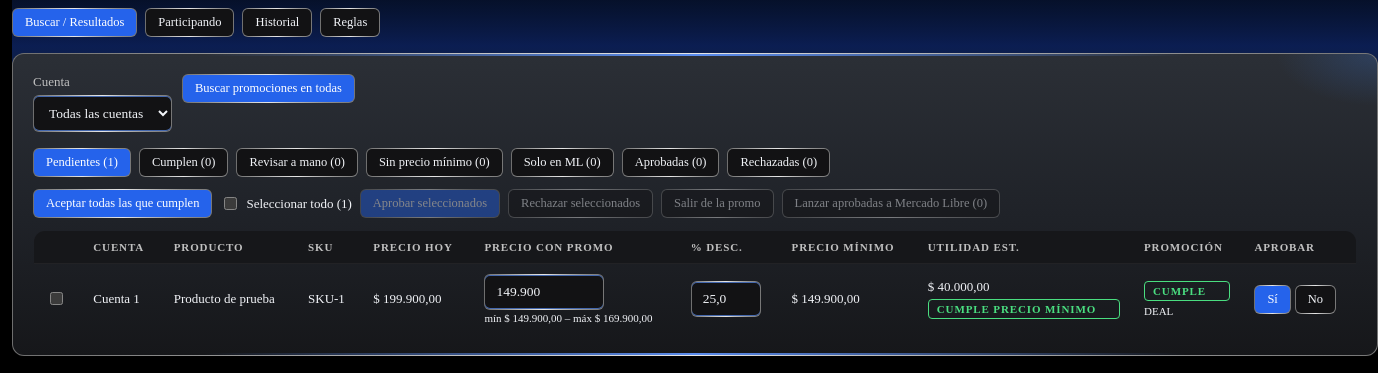
Test: PaginaPromociones — punto 1 (rama fix-promociones-edicion): escribir libre, confirmar solo en blur/Enter › escribir en % recalcula el precio solo al confirmar, con coma decimal es-CO
Expected: the text "Producto de prueba" is shown, left=162, top=264, right=296, bottom=334
Step 1. Replace the text in the 2nd field with "15,0" → x=726, y=299, box left=691, top=281, right=761, bottom=317
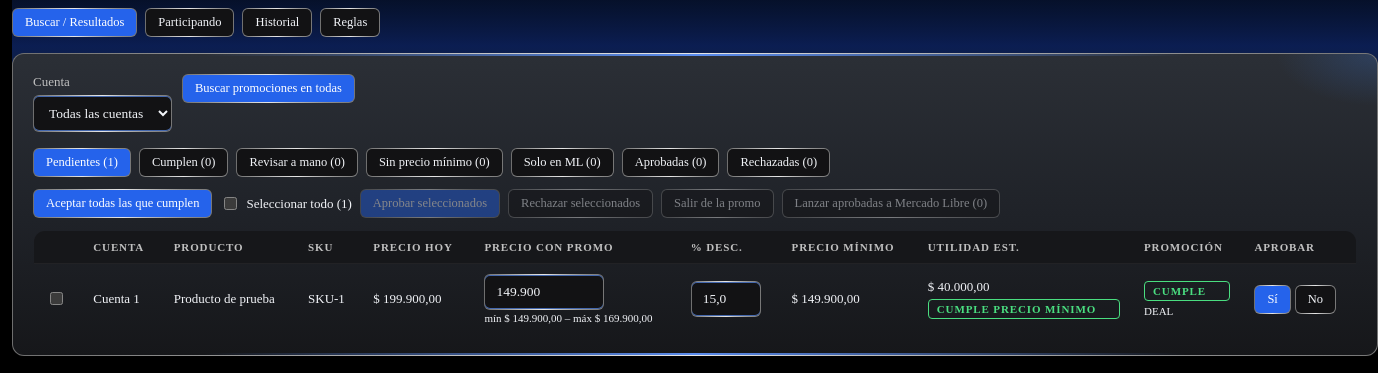
Step 2. Leave the 2nd field, box left=691, top=281, right=761, bottom=317
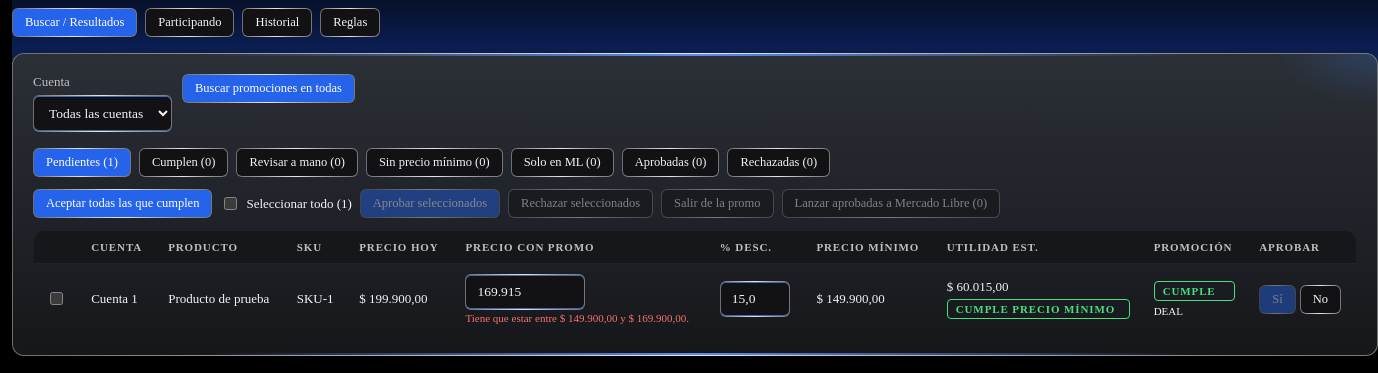
Result: the 1st field holds "169.915" at left=466, top=274, right=586, bottom=310
